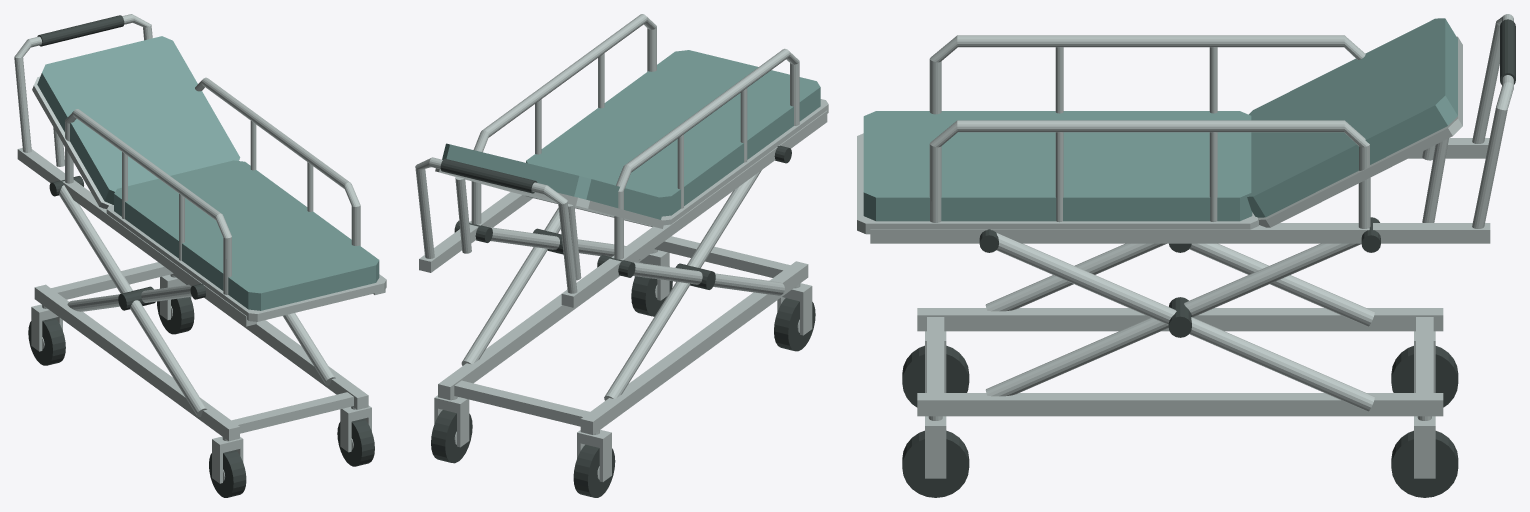
3 renders of one model, left to right at view 1: azimuth 30°, elevation 25°; view 2: azimuth 150°, elevation 25°; view 3: azimuth 270°, elevation 25°, orthographic. The views are drawn at different scales.
Visible parts, largest first — view 1: WholeLevelCushion, WholeRaisedHeadCushion, WholeLowerSideRail_-1, WholeFixedCrossSupport_(-1, 0), WholeUpperSideRail_-1, WholeRaisedOpenSideBarrier_-1, WholeLevelLowerDeck, WholeRaisedOpenSideBarrier_1, WholeLowerSideRail_1, WholeLowerEndRail_-0.73, WholeLowerEndRail_0.73, WholeHeadEndPushHandle (+13 smaller); view 2: WholeLevelCushion, WholeLowerSideRail_-1, WholeRaisedHeadCushion, WholeUpperSideRail_-1, WholeRaisedOpenSideBarrier_-1, WholeFixedCrossSupport_(-1, 1), WholeRaisedOpenSideBarrier_1, WholeLowerSideRail_1, WholeHeadEndPushHandle, WholeLowerEndRail_0.73, WholeFixedCrossSupport_(1, 1), WholeFixedCrossSupport_(-1, 0) (+17 smaller); view 3: WholeLevelCushion, WholeRaisedHeadCushion, WholeLowerSideRail_1, WholeUpperSideRail_1, WholeLowerSideRail_-1, WholeRaisedOpenSideBarrier_1, WholeFixedCrossSupport_(1, 1), WholeRaisedOpenSideBarrier_-1, WholeFixedCrossSupport_(1, 0), WholeLevelLowerDeck, WholeHeadEndPushHandle, WholeRaisedHeadDeck (+16 smaller).
Part boxes in pixels (left/top/right/bottom): WholeLevelCushion: left=114, top=160, right=379, bottom=310; WholeRaisedHeadCushion: left=37, top=36, right=240, bottom=204; WholeLowerSideRail_-1: left=34, top=284, right=239, bottom=441; WholeFixedCrossSupport_(-1, 0): left=59, top=185, right=206, bottom=416; WholeUpperSideRail_-1: left=17, top=148, right=256, bottom=326; WholeRaisedOpenSideBarrier_-1: left=65, top=109, right=231, bottom=294; WholeLevelLowerDeck: left=106, top=205, right=386, bottom=321; WholeRaisedOpenSideBarrier_1: left=195, top=77, right=360, bottom=245; WholeLowerSideRail_1: left=172, top=273, right=368, bottom=409; WholeLowerEndRail_-0.73: left=232, top=392, right=353, bottom=433; WholeLowerEndRail_0.73: left=51, top=262, right=173, bottom=299; WholeHeadEndPushHandle: left=14, top=14, right=152, bottom=152; WholeLevelCushion: left=526, top=50, right=820, bottom=216; WholeLowerSideRail_-1: left=580, top=261, right=808, bottom=434; WholeRaisedHeadCushion: left=442, top=143, right=665, bottom=219; WholeUpperSideRail_-1: left=561, top=110, right=827, bottom=307; WholeRaisedOpenSideBarrier_-1: left=614, top=48, right=799, bottom=259; WholeFixedCrossSupport_(-1, 1): left=604, top=170, right=761, bottom=400; WholeRaisedOpenSideBarrier_1: left=471, top=14, right=656, bottom=224; WholeLowerSideRail_1: left=438, top=234, right=655, bottom=400; WholeHeadEndPushHandle: left=415, top=157, right=577, bottom=293; WholeLowerEndRail_0.73: left=454, top=380, right=589, bottom=426; WholeFixedCrossSupport_(1, 1): left=461, top=207, right=560, bottom=365; WholeFixedCrossSupport_(-1, 0): left=632, top=262, right=784, bottom=295; WholeLevelCushion: left=863, top=111, right=1252, bottom=221; WholeRaisedHeadCushion: left=1247, top=18, right=1457, bottom=217; WholeLowerSideRail_1: left=917, top=393, right=1443, bottom=416; WholeUpperSideRail_1: left=870, top=223, right=1490, bottom=243; WholeLowerSideRail_-1: left=917, top=308, right=1443, bottom=331; WholeRaisedOpenSideBarrier_1: left=929, top=120, right=1370, bottom=228; WholeFixedCrossSupport_(1, 1): left=996, top=233, right=1374, bottom=411; WholeRaisedOpenSideBarrier_-1: left=929, top=35, right=1365, bottom=114; WholeFixedCrossSupport_(1, 0): left=985, top=243, right=1361, bottom=396; WholeLevelLowerDeck: left=857, top=133, right=1258, bottom=234; WholeHeadEndPushHandle: left=1472, top=14, right=1513, bottom=228; WholeRaisedHeadDeck: left=1258, top=36, right=1462, bottom=227.
Bounding box in the file's own units: 0.738 × 1.33 × 1.97.
